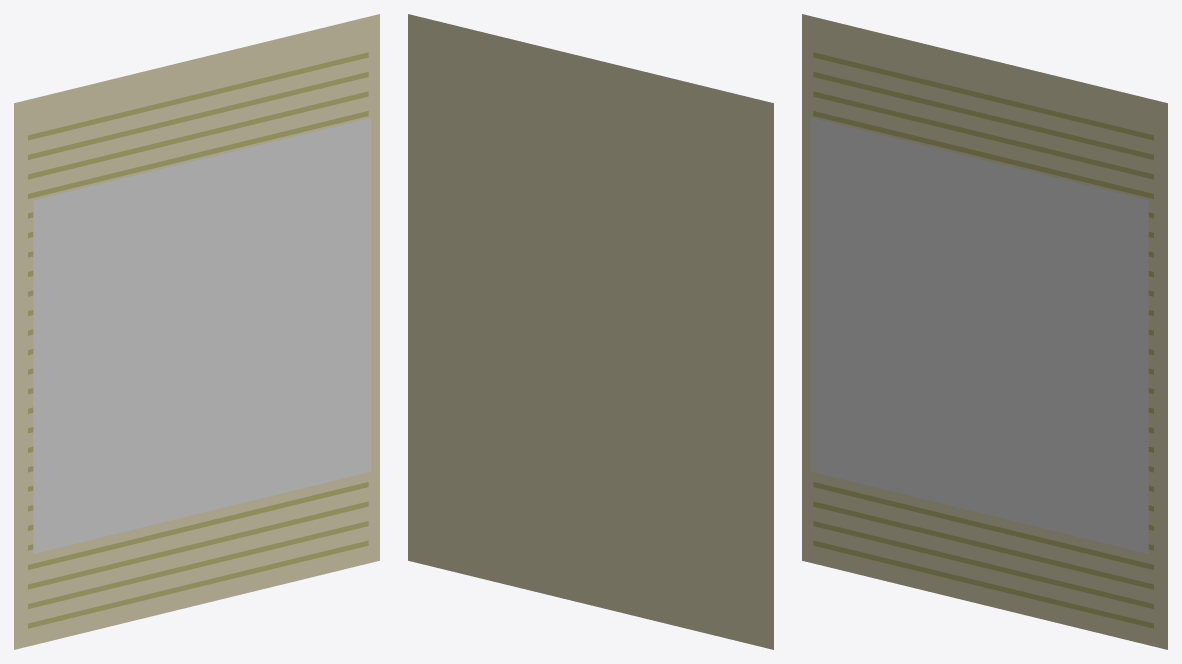
File: escape_folha.fbx
3 renders of one model, left to right at view 1: azimuth 30°, elevation 25°; view 2: azimuth 150°, elevation 25°; view 3: azimuth 330°, elevation 25°, orthographic.
Visible parts, largest first — view 1: FolhaDesenho, Folha; view 2: Folha; view 3: FolhaDesenho, Folha.
Boxes of the visible parts, box(x1,y1,x2,y2) form: FolhaDesenho: box(33, 118, 371, 553); Folha: box(14, 14, 379, 649); Folha: box(408, 14, 773, 649); FolhaDesenho: box(810, 118, 1148, 553); Folha: box(802, 14, 1167, 649).
Size of the model in its own units: 98 by 140 by 2.51.
